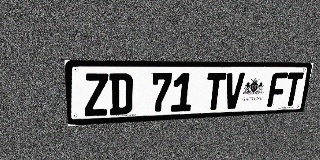1: (171, 73, 194, 112)
7: (149, 73, 172, 113)
D: (109, 73, 133, 115)
F: (267, 72, 288, 107)
T: (204, 73, 227, 110), (283, 72, 304, 106)
V: (223, 73, 245, 109)
Z: (83, 73, 109, 117)
